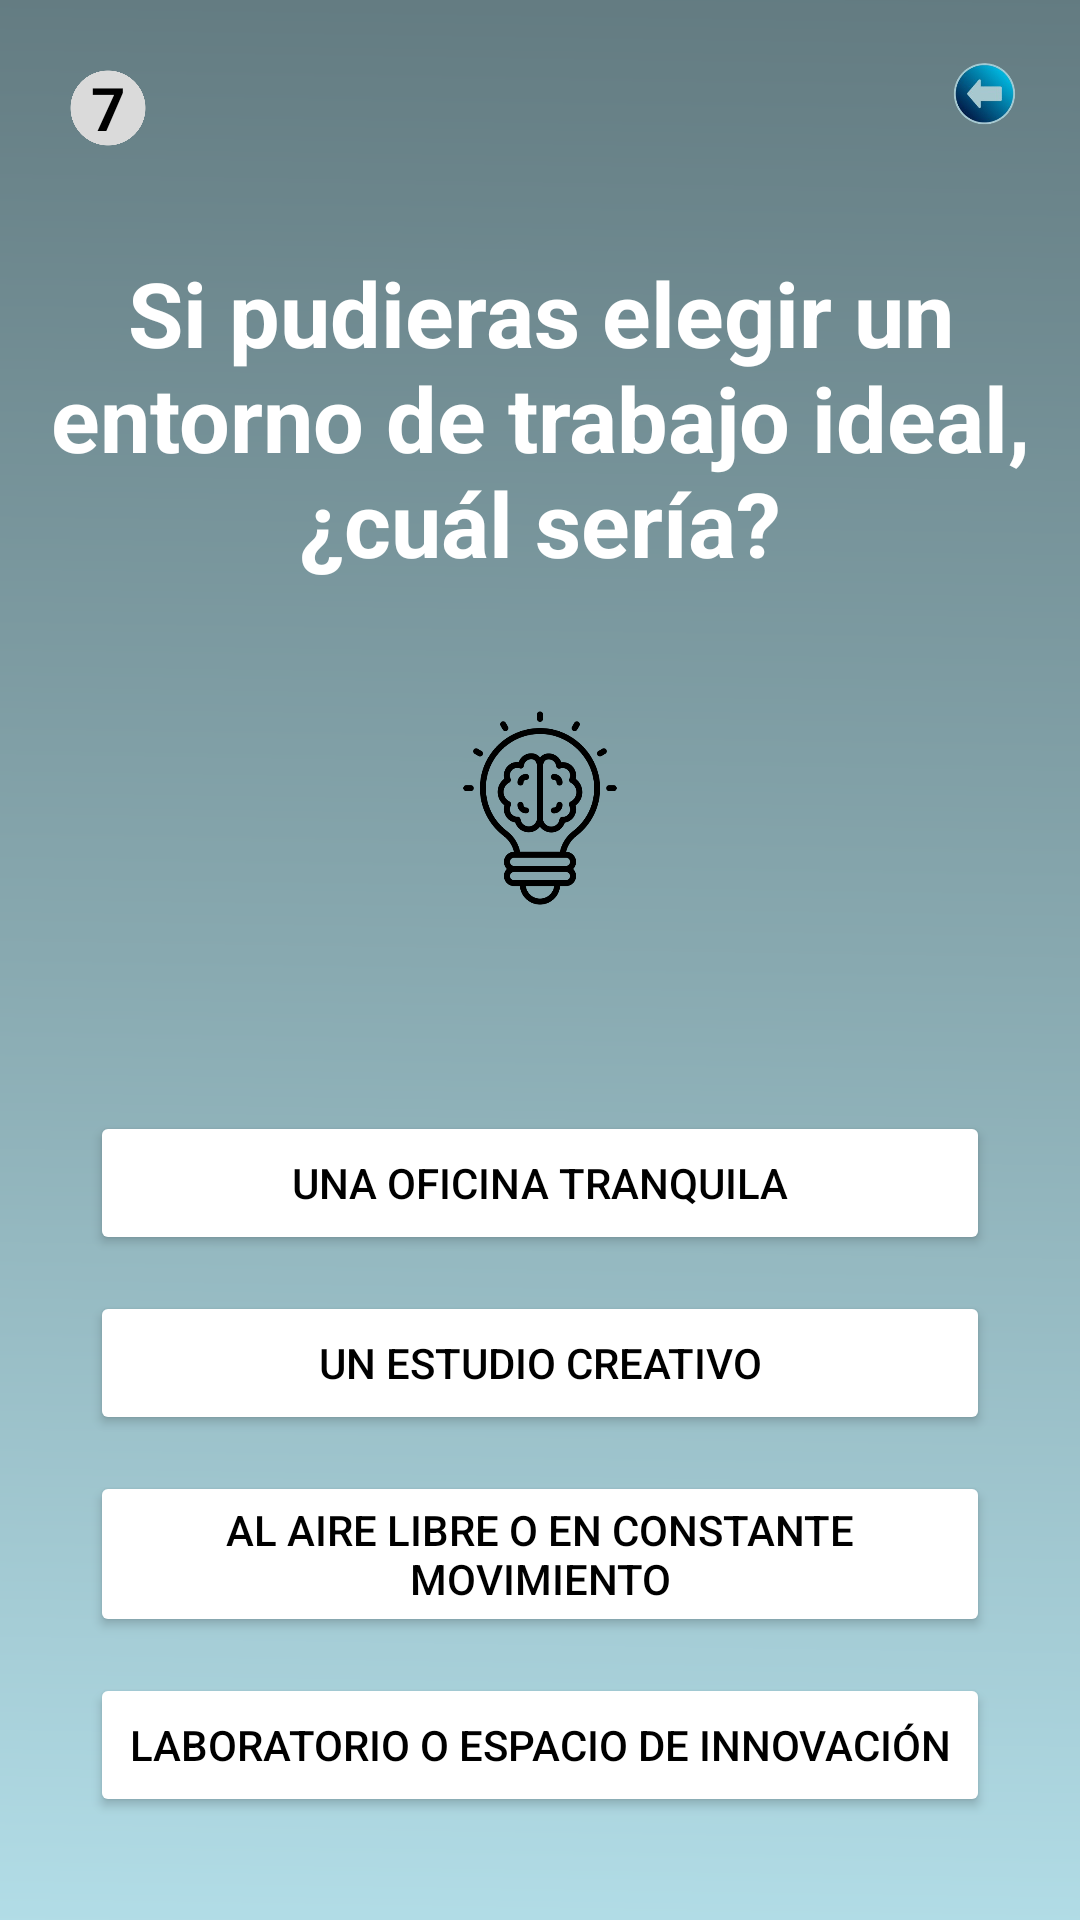

Icons on this 1080×1920 Android screen, each with its box as (x1, y1, x2, y2):
retroceso: (954, 63, 1015, 124)
